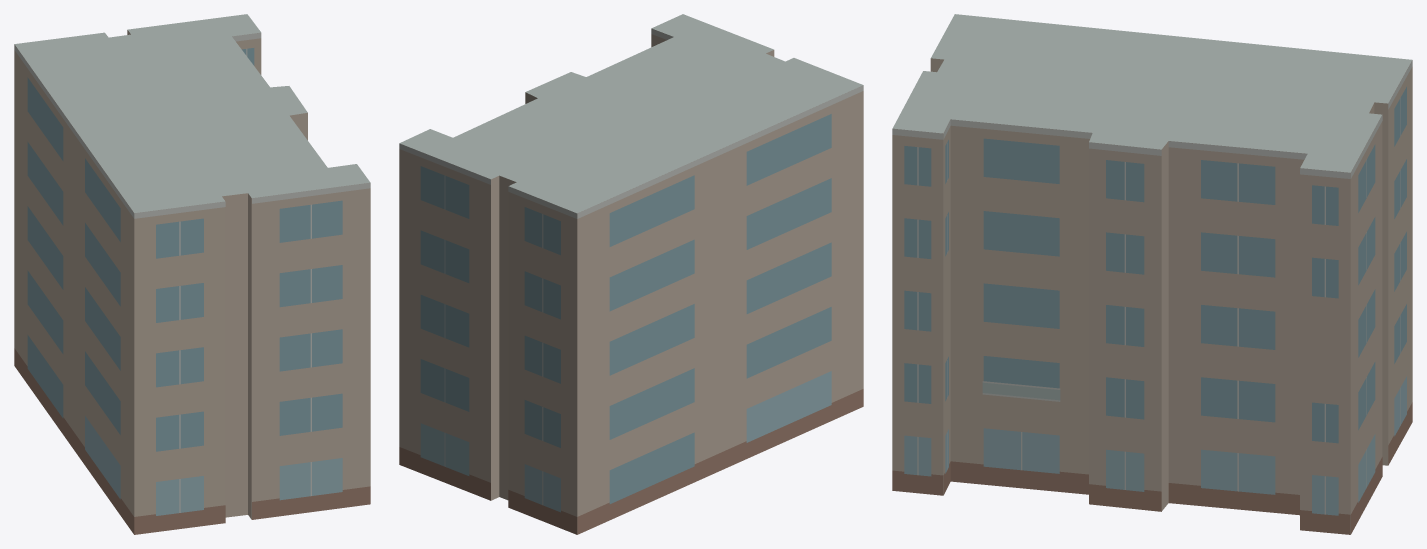
Rendered from survey-upis-32870207.glb.
The picture shows the model from 3 angles, left to right: view 1: azimuth 30°, elevation 25°; view 2: azimuth 150°, elevation 25°; view 3: azimuth 270°, elevation 25°; orthographic projection. The views are drawn at different scales.
Parts seen in each view (by area): view 1: survey-upis-32870207.tmp; view 2: survey-upis-32870207.tmp; view 3: survey-upis-32870207.tmp.
Part boxes in pixels (left/top/right/bottom): survey-upis-32870207.tmp: left=14, top=14, right=370, bottom=534; survey-upis-32870207.tmp: left=399, top=14, right=863, bottom=534; survey-upis-32870207.tmp: left=892, top=14, right=1412, bottom=534.
Bounding box in the file's own units: 13.07 × 13.9 × 18.1.
